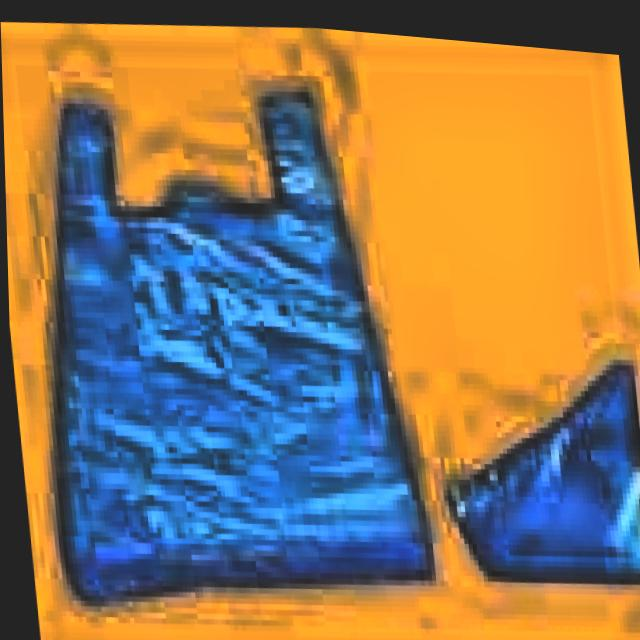Plastic: (9, 58, 446, 640)
